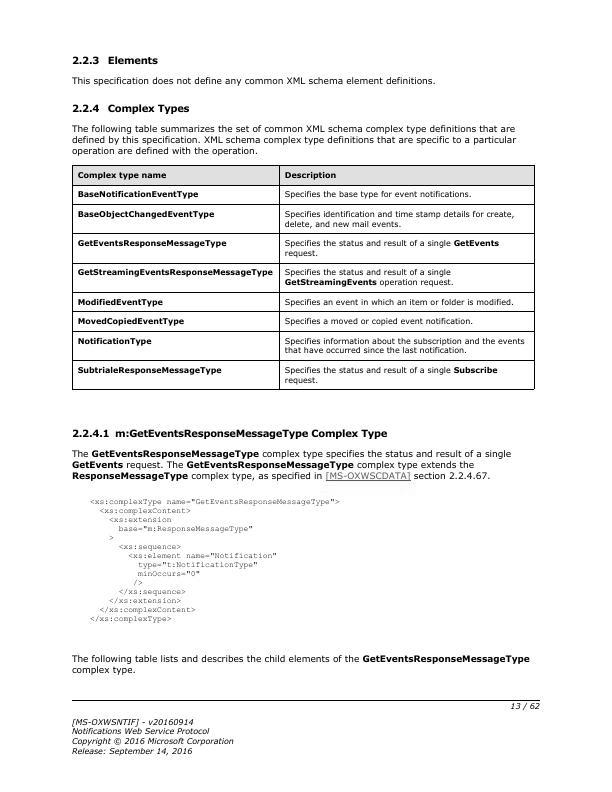table: (71, 165, 537, 394)
text: (86, 496, 344, 625), (68, 447, 513, 483), (70, 122, 518, 157), (68, 651, 533, 677), (68, 715, 234, 760), (68, 73, 436, 88), (68, 428, 392, 442), (66, 100, 197, 118), (67, 52, 160, 68)
